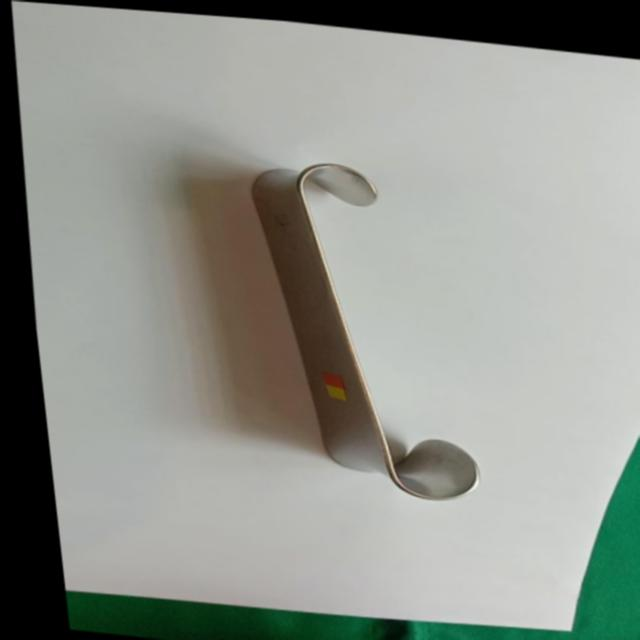CheekRetractor: (228, 146, 488, 502)
